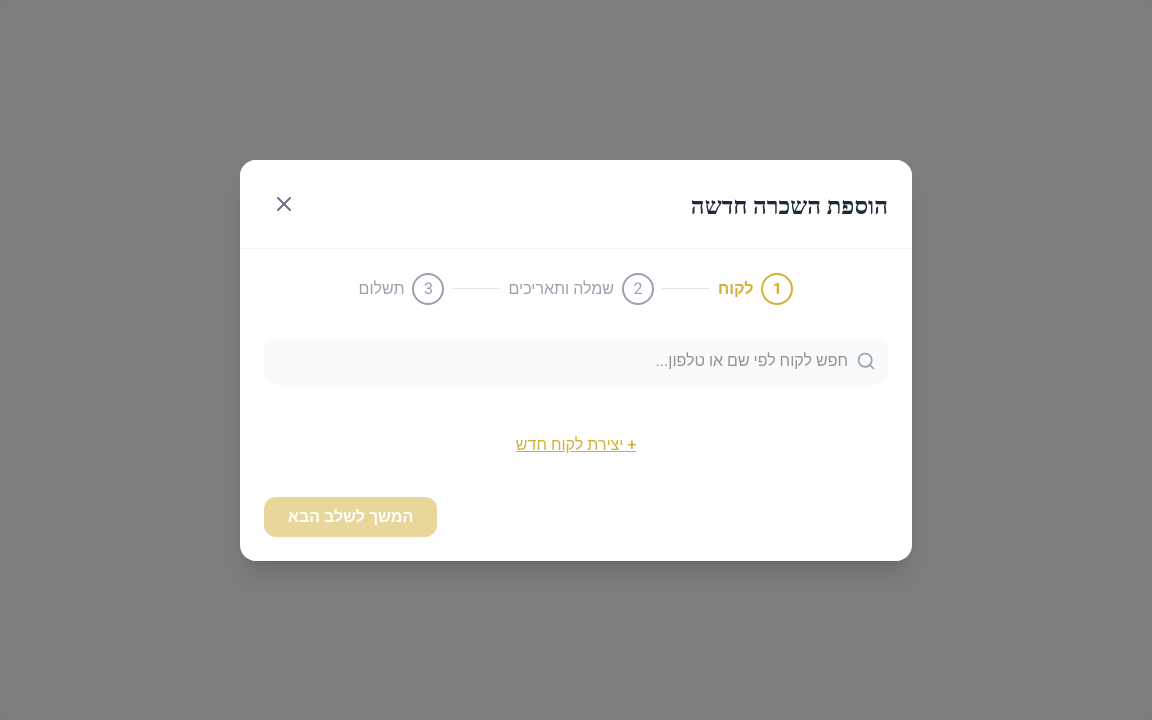
AddRentalModal › should allow navigating to new client form
Click the button "+ יצירת לקוח חדש".
click(576, 444)  # box [516,432,636,456]
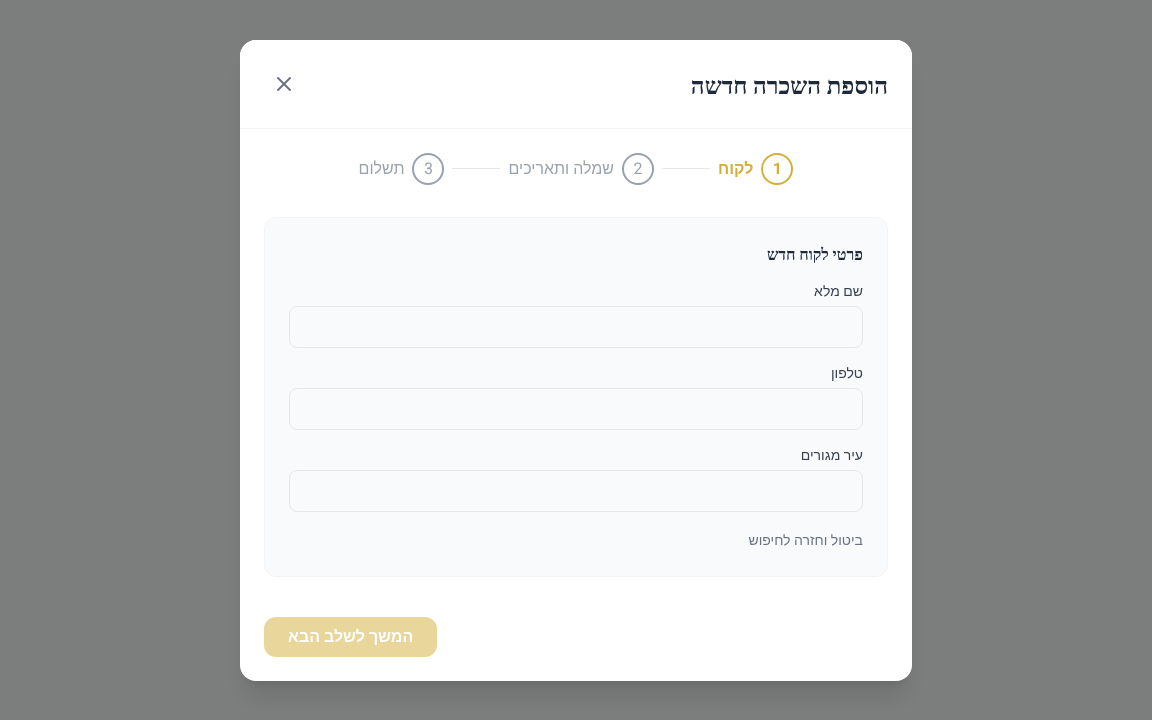
Now the heading "פרטי לקוח חדש" is shown, box [767,242,863,264]
Now the text "שם מלא" is shown, box [814,280,863,302]
